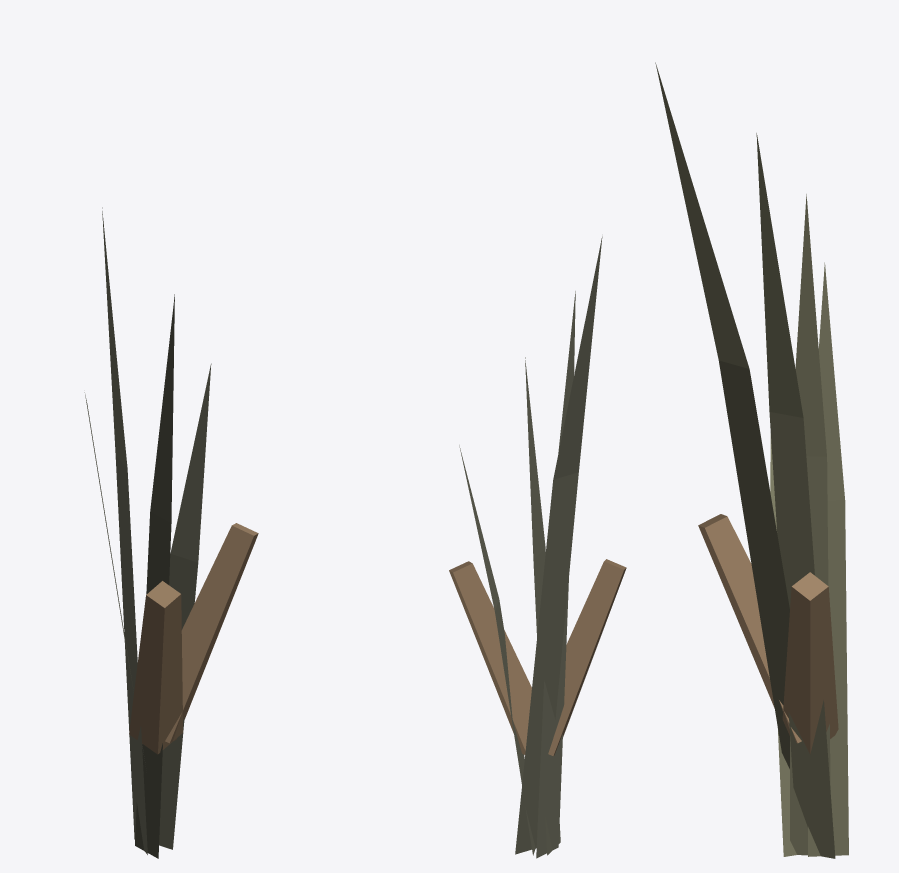
File: shui.changpu__winter.glb
The picture shows the model from 3 angles, left to right: view 1: azimuth 30°, elevation 25°; view 2: azimuth 150°, elevation 25°; view 3: azimuth 270°, elevation 25°; orthographic projection. The views are drawn at different scales.
Visible parts, largest first — view 1: shui.changpu__winter; view 2: shui.changpu__winter; view 3: shui.changpu__winter.
Boxes of the visible parts, box(x1,y1,x2,y2) form: shui.changpu__winter: box(84, 207, 258, 858); shui.changpu__winter: box(449, 236, 626, 858); shui.changpu__winter: box(655, 62, 848, 858).
Bounding box in the file's own units: 0.5859 × 1.62 × 0.3823.
